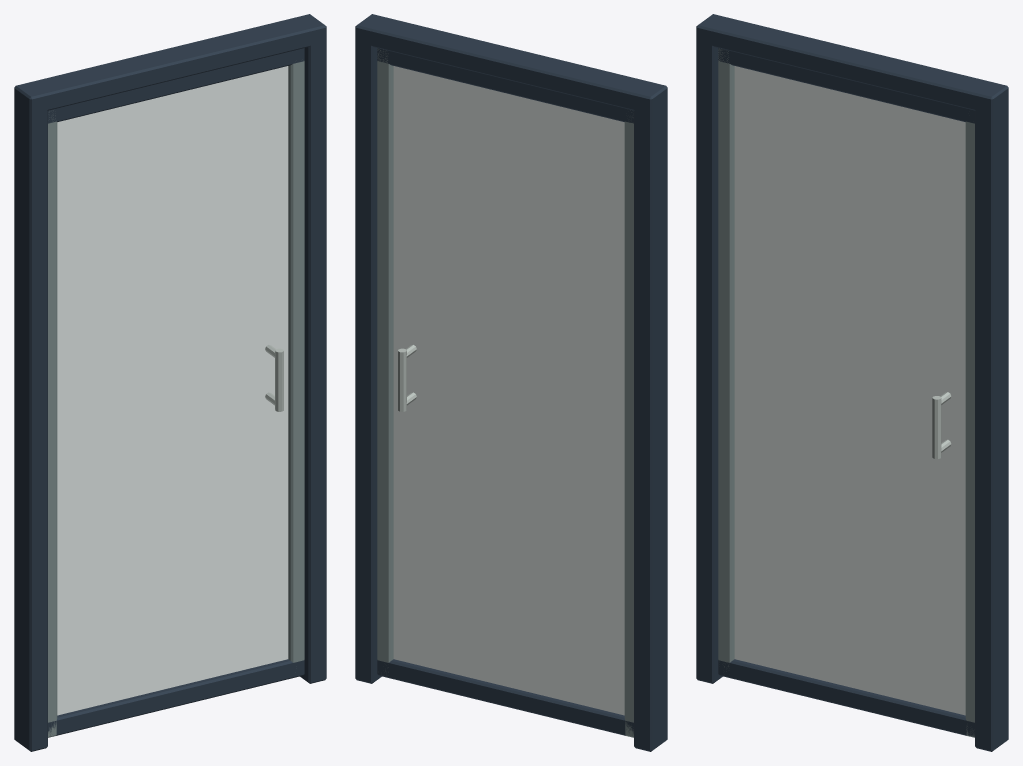
File: glass_door.glb
3 views of the same model, side by side, from view 1: azimuth 30°, elevation 25°; view 2: azimuth 150°, elevation 25°; view 3: azimuth 330°, elevation 25° (orthographic).
Visible parts, largest first — view 1: glass_door__glass, glass_door__metal, glass_door__metal_light, glass_door__metal.001, glass_door__steel; view 2: glass_door__glass, glass_door__metal, glass_door__metal_light, glass_door__metal.001, glass_door__steel; view 3: glass_door__glass, glass_door__metal, glass_door__metal_light, glass_door__metal.001, glass_door__steel.
Part boxes in pixels (x1=…): glass_door__glass: x1=57, y1=66, x2=288, y2=715; glass_door__metal: x1=14, y1=14, x2=326, y2=751; glass_door__metal_light: x1=48, y1=61, x2=304, y2=737; glass_door__metal.001: x1=48, y1=48, x2=304, y2=735; glass_door__steel: x1=265, y1=345, x2=283, y2=411; glass_door__glass: x1=393, y1=66, x2=624, y2=715; glass_door__metal: x1=355, y1=14, x2=667, y2=751; glass_door__metal_light: x1=377, y1=48, x2=633, y2=737; glass_door__metal.001: x1=377, y1=48, x2=633, y2=735; glass_door__steel: x1=398, y1=345, x2=416, y2=411; glass_door__glass: x1=734, y1=66, x2=965, y2=715; glass_door__metal: x1=696, y1=14, x2=1008, y2=751; glass_door__metal_light: x1=718, y1=48, x2=974, y2=737; glass_door__metal.001: x1=718, y1=48, x2=974, y2=736; glass_door__steel: x1=932, y1=392, x2=951, y2=458.
Bounding box in the file's own units: 1.05 × 2.2 × 0.178.
